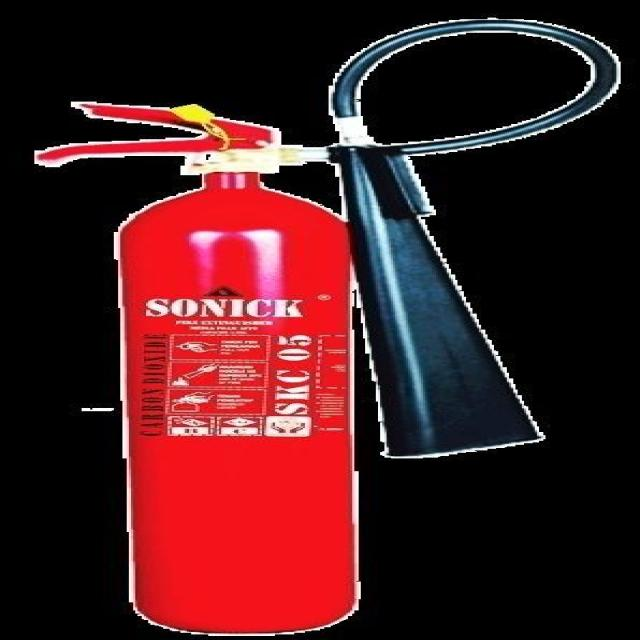fire_extinguisher: (21, 16, 638, 639)
